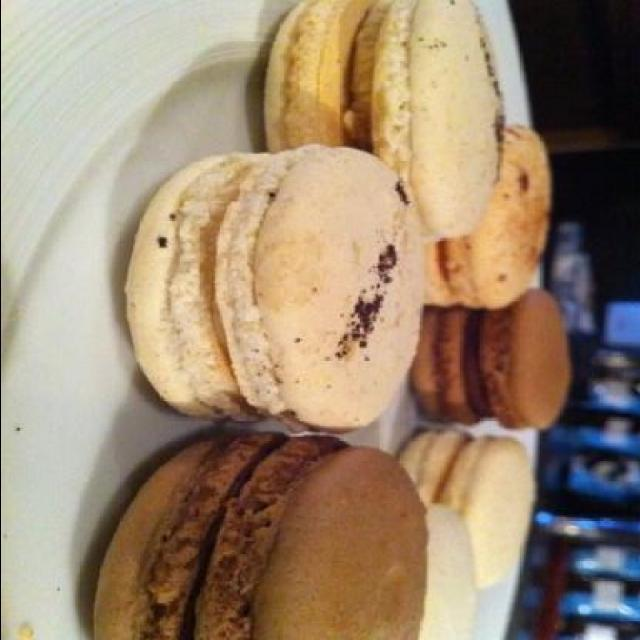Macaron: (80, 2, 577, 640)
